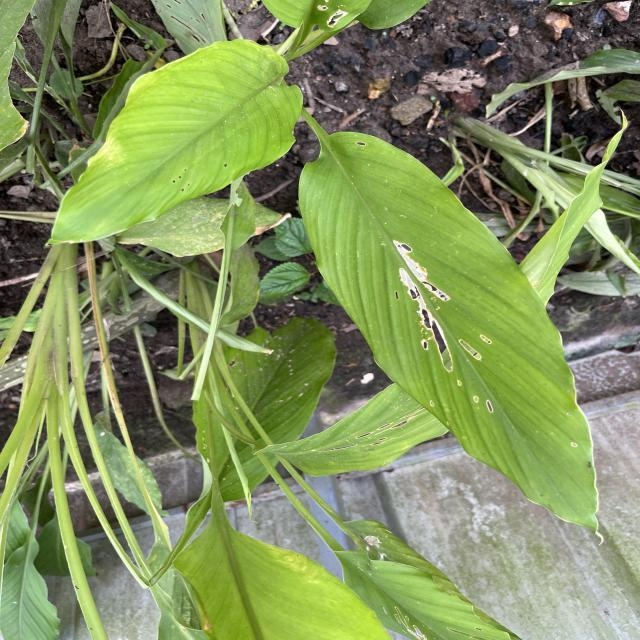Curcuma longa: (292, 124, 614, 556), (39, 35, 312, 259)
